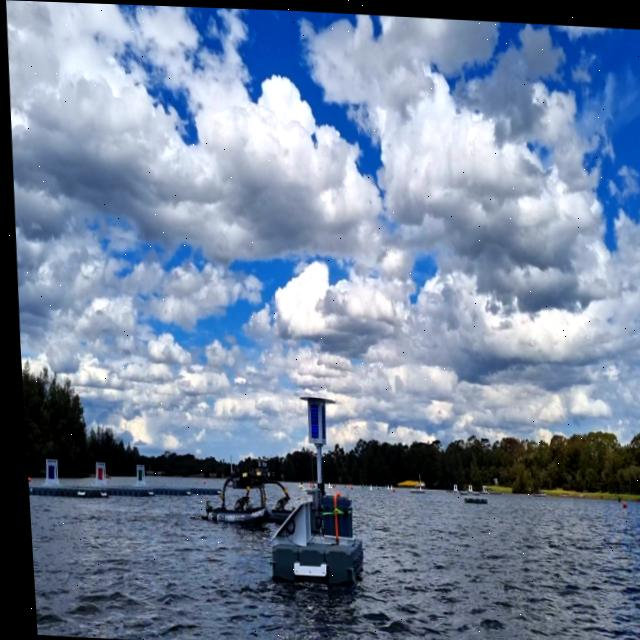led: (303, 398, 315, 438)
